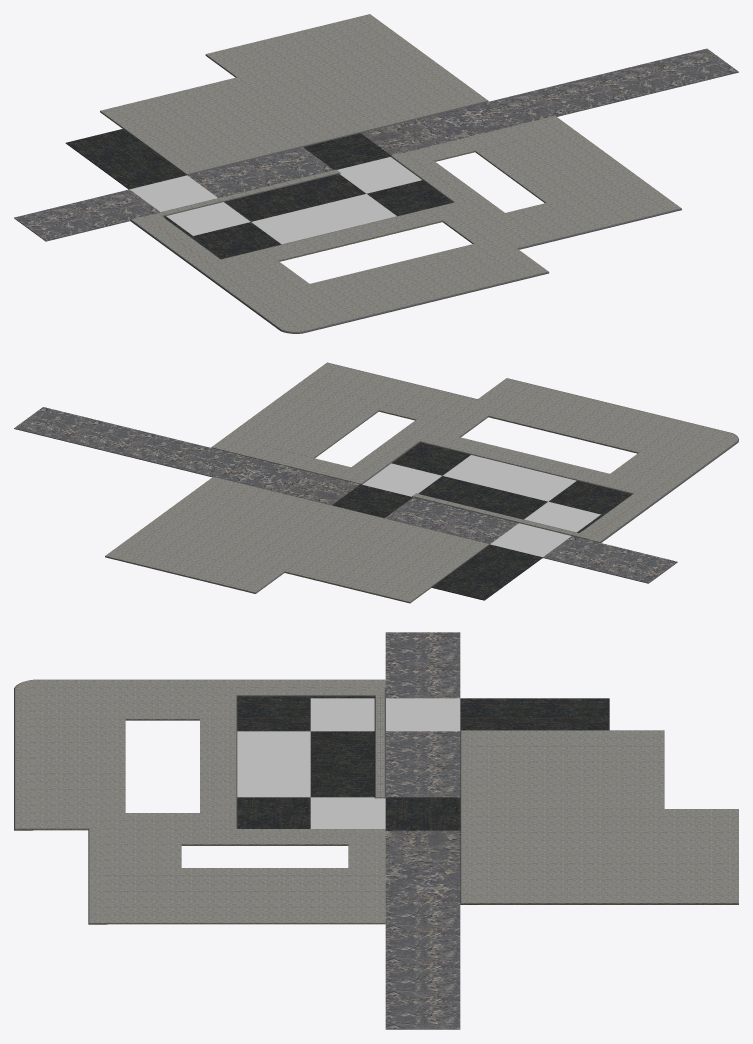
The model's file is Area1Foundation.fbx.
3 renders of one model, top to bottom at view 1: azimuth 30°, elevation 25°; view 2: azimuth 150°, elevation 25°; view 3: azimuth 270°, elevation 25°, orthographic. The views are drawn at different scales.
Visible parts, largest first — view 1: Area1Foundation; view 2: Area1Foundation; view 3: Area1Foundation.
Boxes of the visible parts, x1,y1,x2,y2 form: Area1Foundation: [14, 14, 738, 333]; Area1Foundation: [14, 362, 738, 603]; Area1Foundation: [14, 632, 738, 1029].
Size of the model in its own units: 6472 by 13.59 by 4999.
